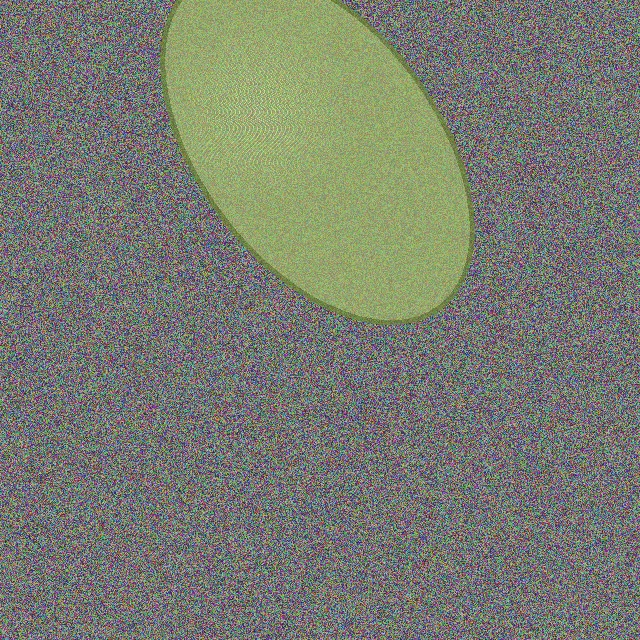lens: (163, 0, 471, 321)
